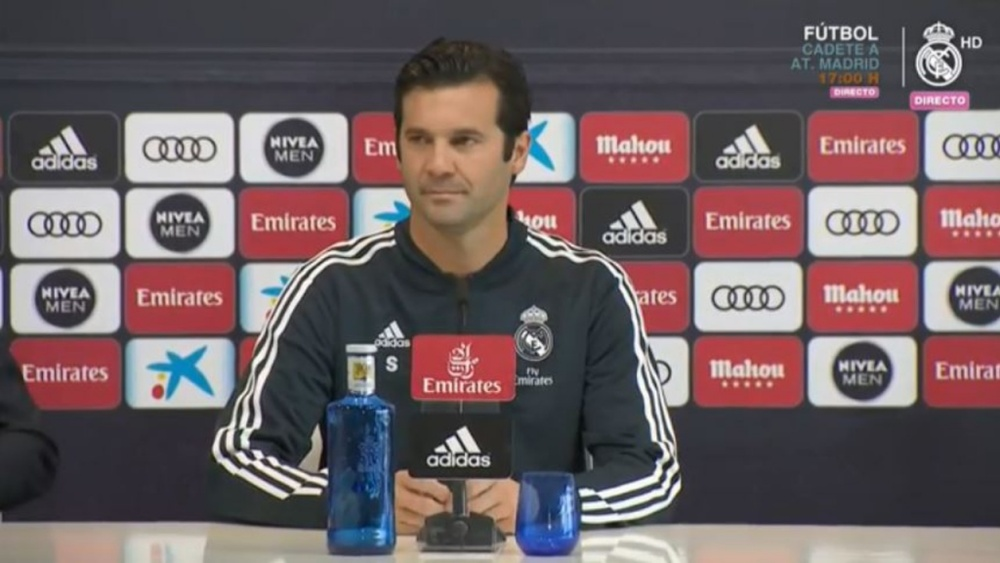without_mask: (399, 90, 506, 224)
